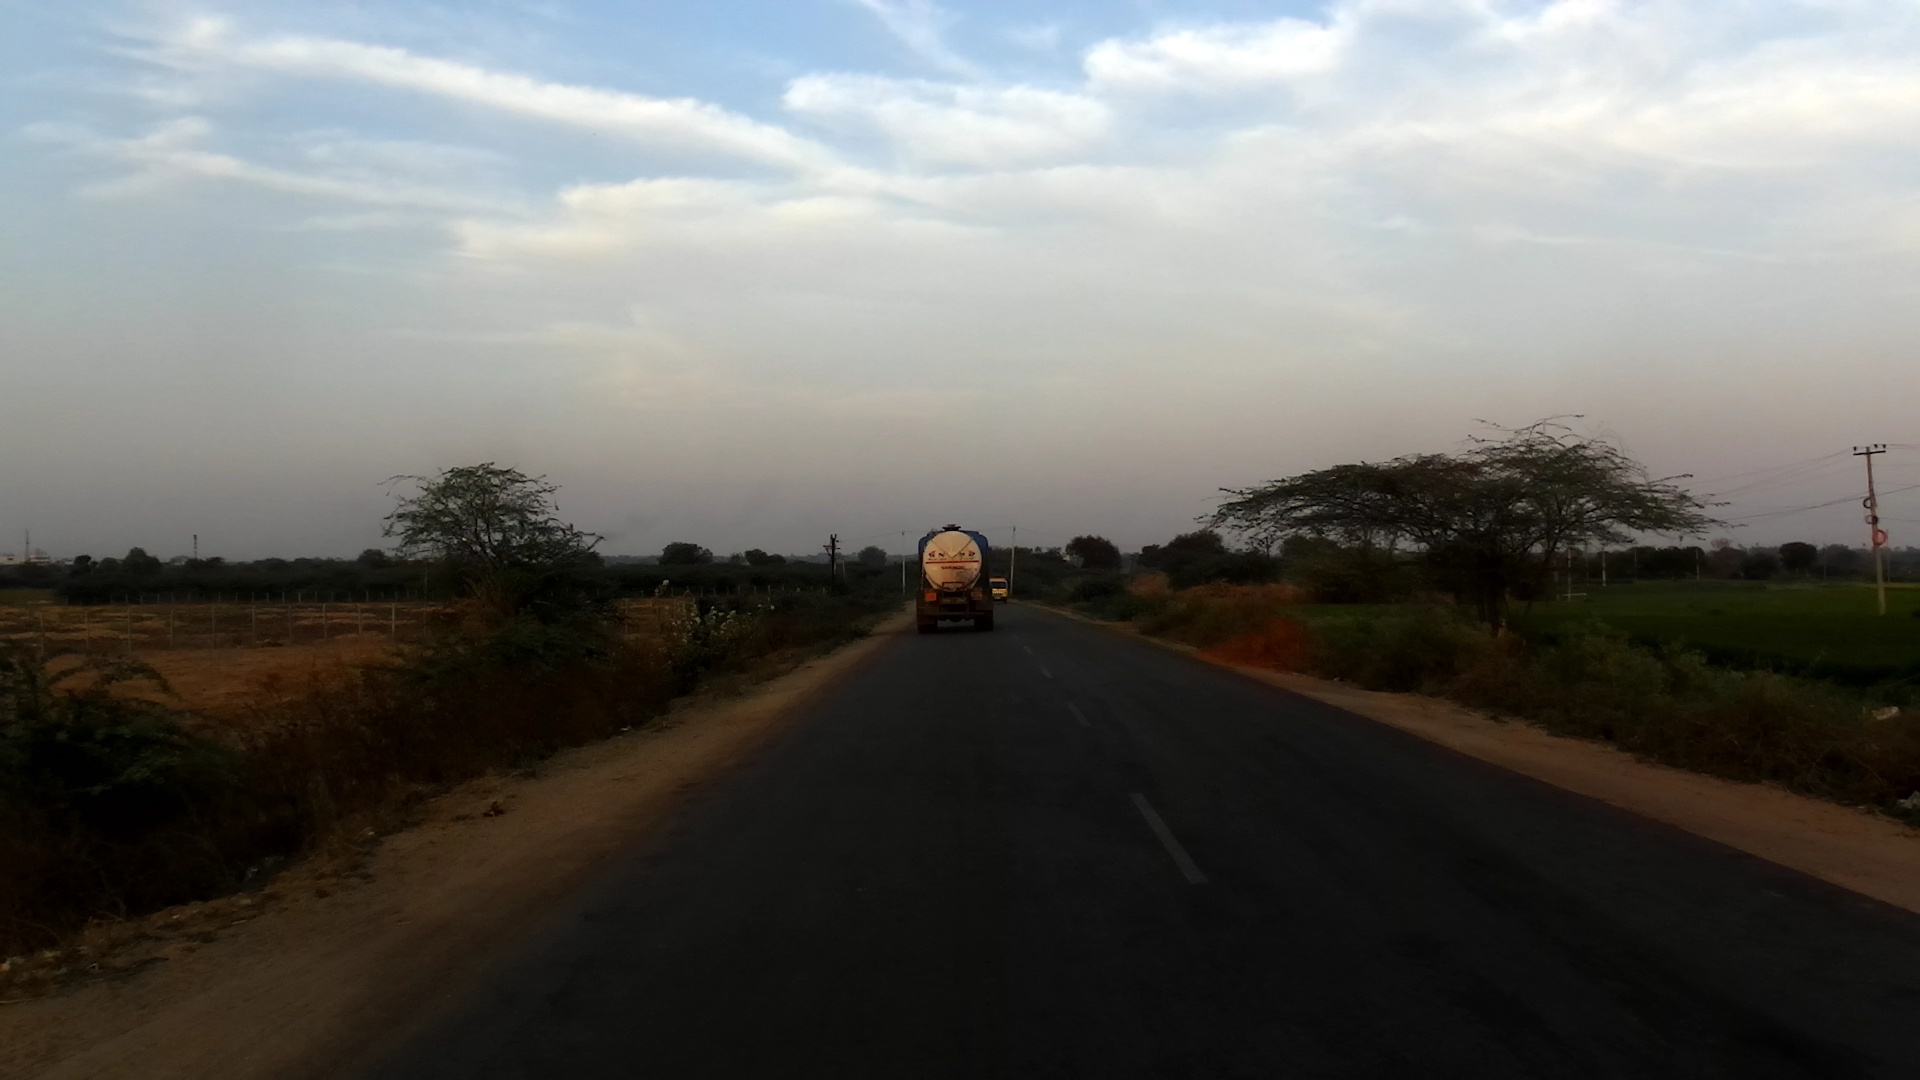car: (988, 576, 1011, 604)
truck: (913, 520, 1000, 634)
